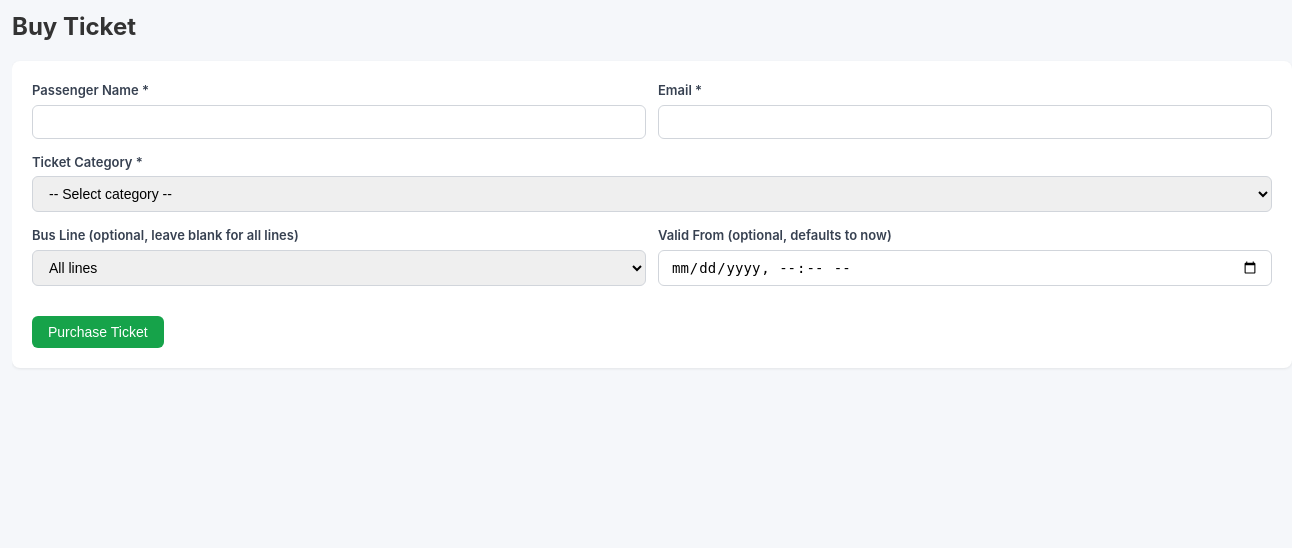
BuyTicket Page › submits form and shows success confirmation
This screenshot has width=1292, height=548.
Type "Test User" into the field below "Passenger Name *".
click(339, 122); type("Test User")  # box top-left (32, 104), bottom-right (646, 138)
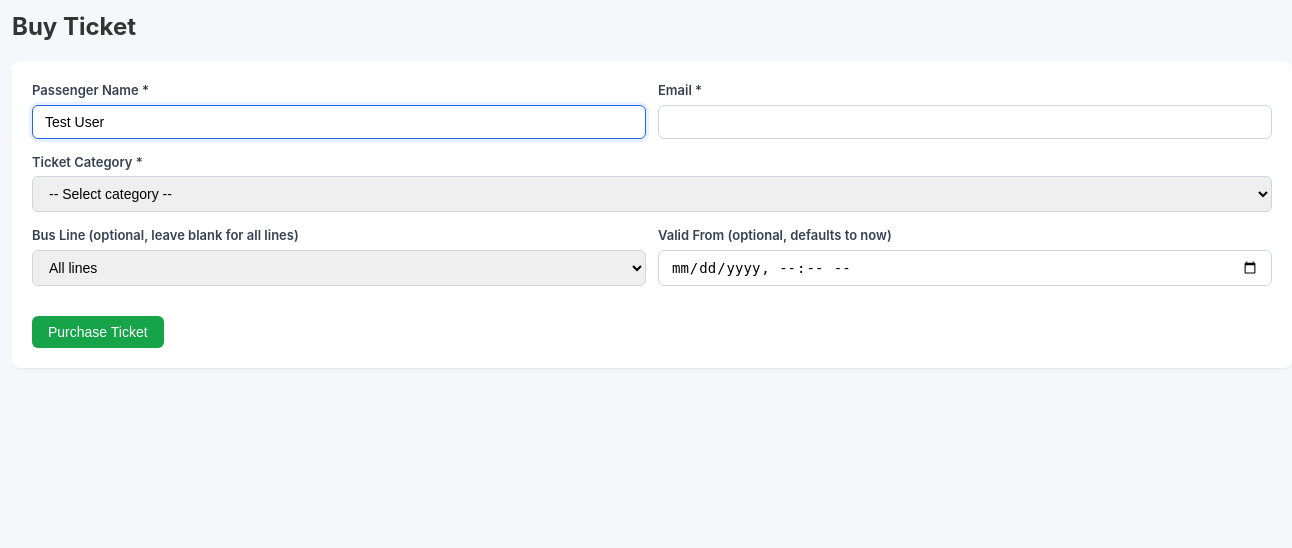
Type "test@example.com" into the field below "Email *".
click(965, 122); type("test@example.com")  # box top-left (658, 104), bottom-right (1272, 138)
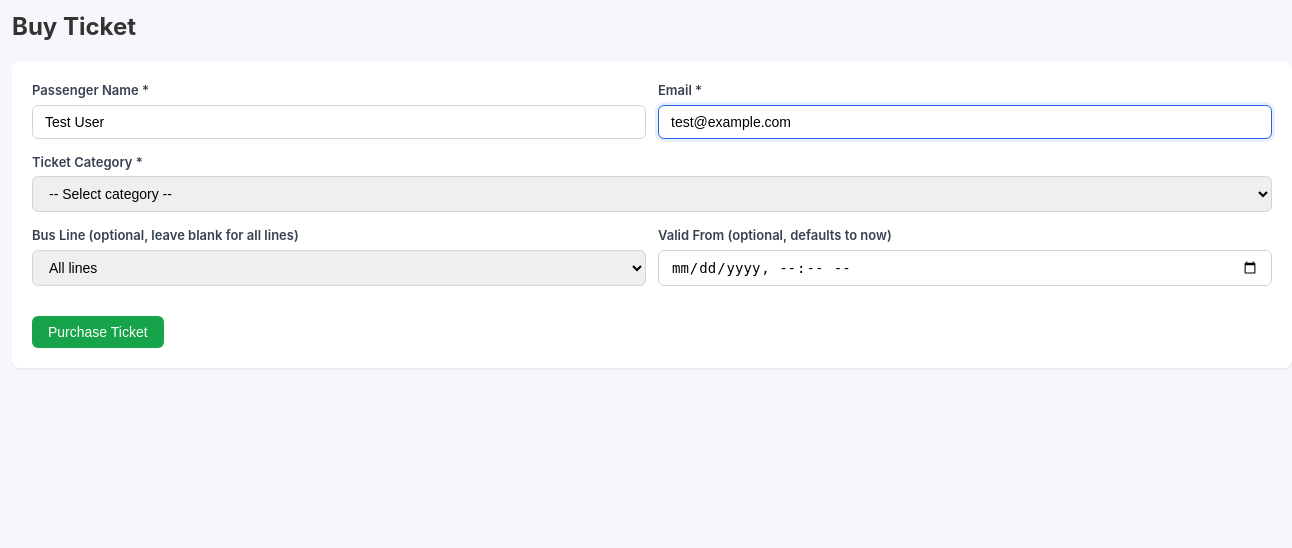
Select "Monthly Pass — €45.00 (30 days)" in the dropdown below "Ticket Category *" at point(652, 194), box top-left (32, 176), bottom-right (1272, 212)
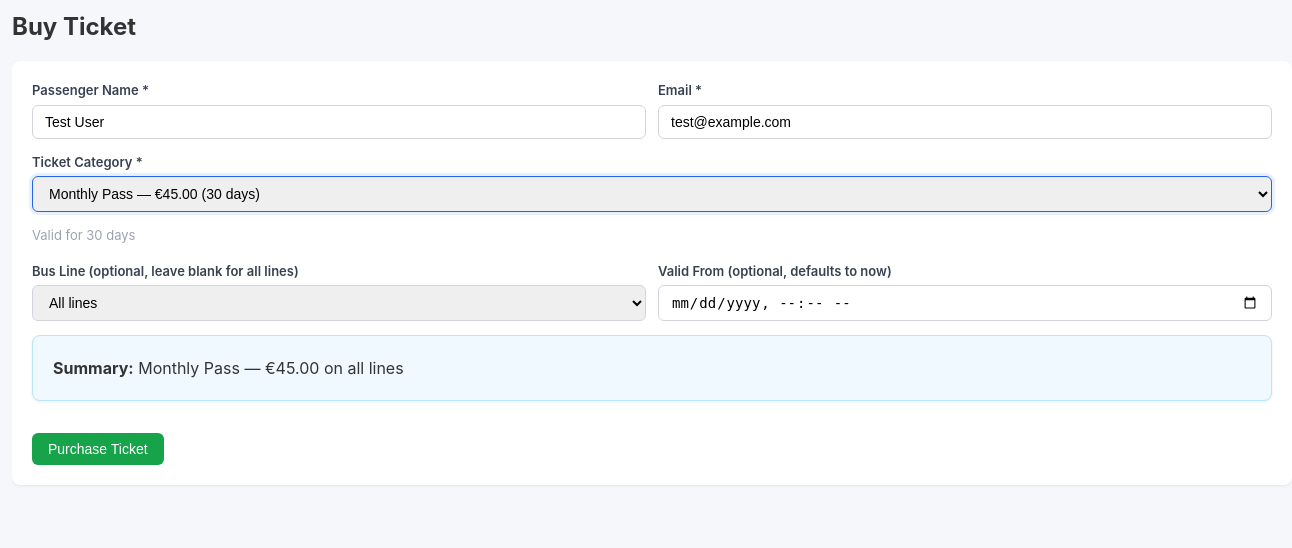
Click the button "Purchase Ticket".
click(98, 449)  # box top-left (32, 433), bottom-right (164, 465)
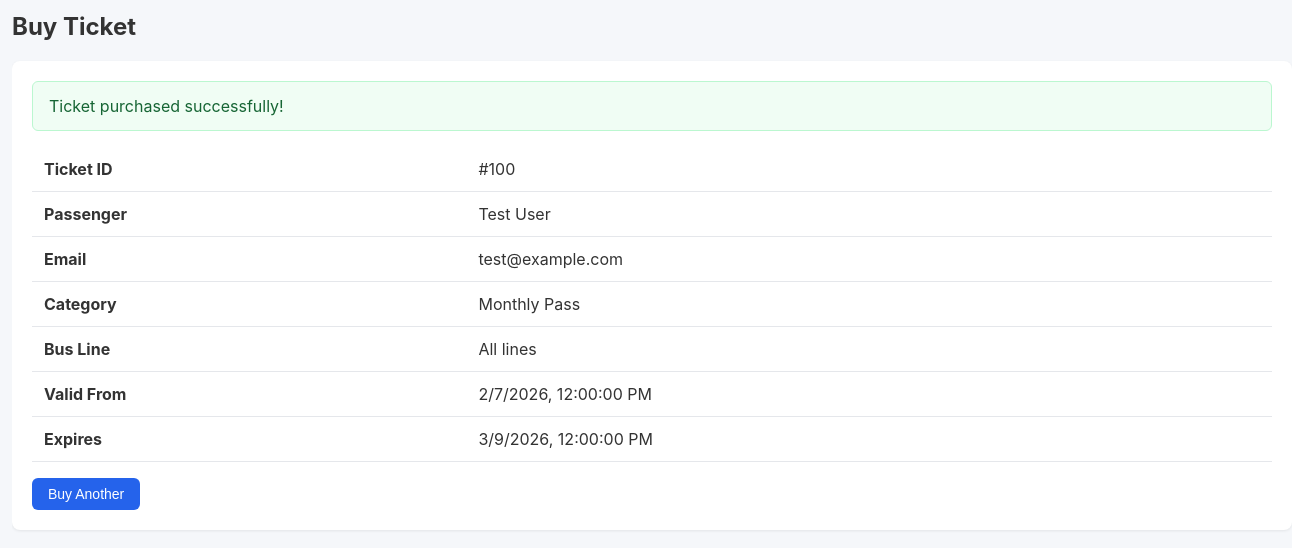
Result: the text "Ticket purchased successfully!" is shown at top-left (32, 81), bottom-right (1272, 131)
Result: the text "#100" is shown at top-left (466, 147), bottom-right (1272, 192)
Result: the text "Test User" is shown at top-left (466, 192), bottom-right (1272, 236)
